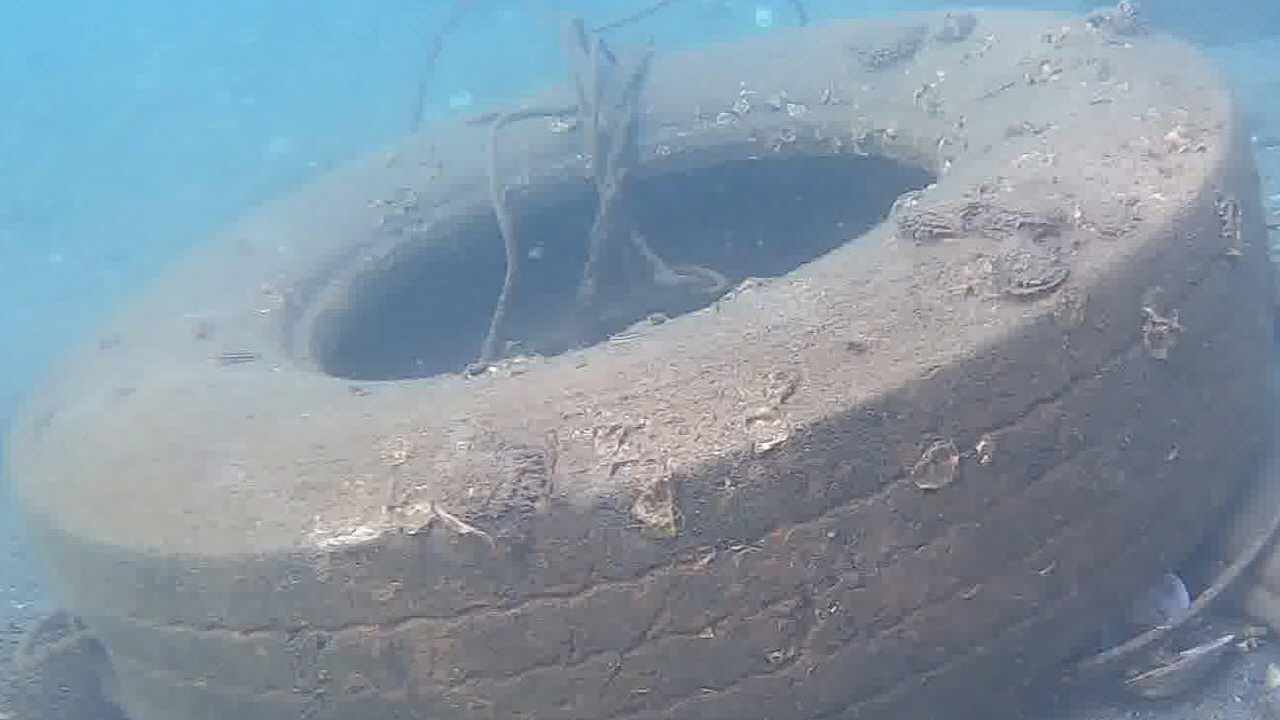bundle of ropes: (460, 3, 733, 363)
tire: (3, 6, 1280, 719)
